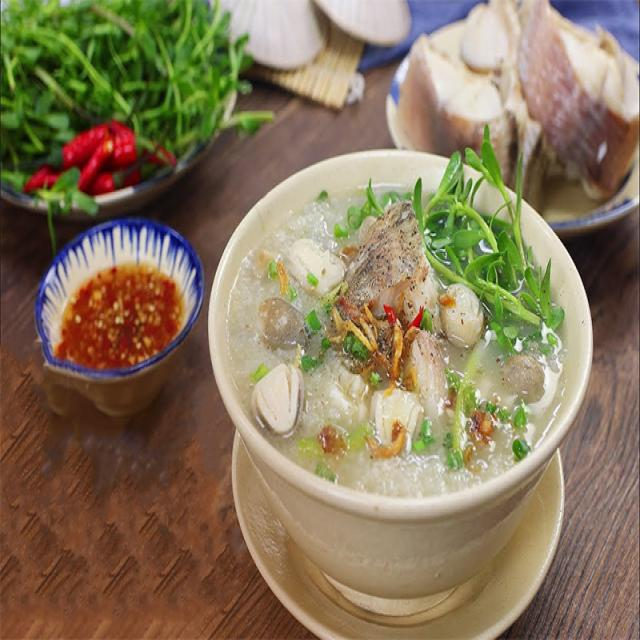ca loc: (395, 9, 630, 204)
chao ca loc: (222, 172, 559, 578)
mam ot: (34, 248, 195, 384)
ot: (40, 127, 188, 192)
